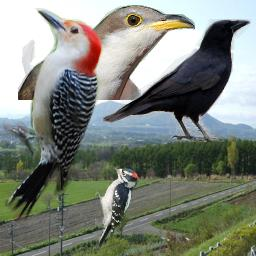Crow: (102, 19, 251, 142)
Cuckoo: (18, 5, 195, 100)
Woodpecker: (3, 8, 103, 221), (95, 165, 139, 250)
